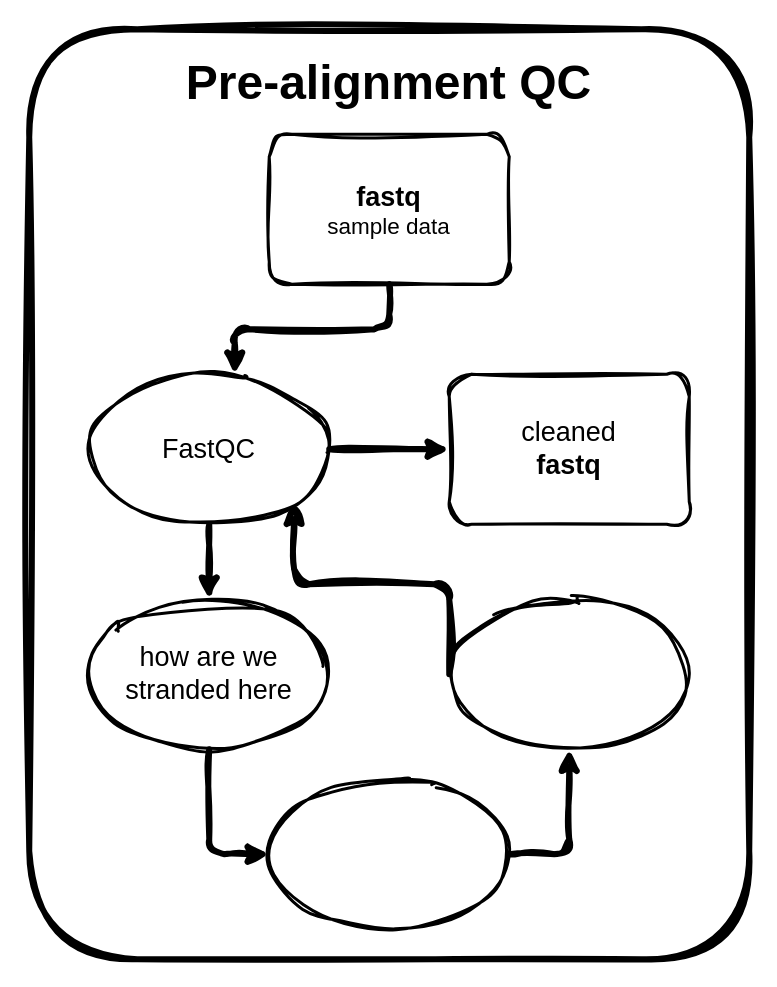
Image size: 777x987. Some labels were removed from this diagram. The shapes that lost their labels are listed below. From the top down, each one's centre as x and y in pixels, then its label:
At (x=568, y=673): "FastQ Screen".
At (x=388, y=853): "fastp".
